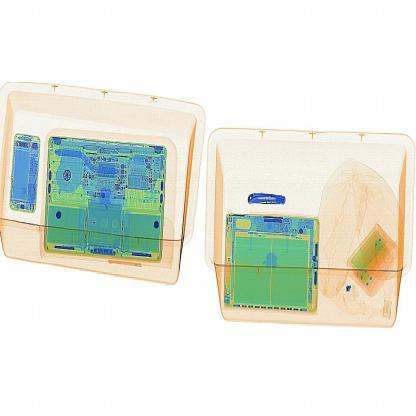knife: (237, 182, 297, 218)
